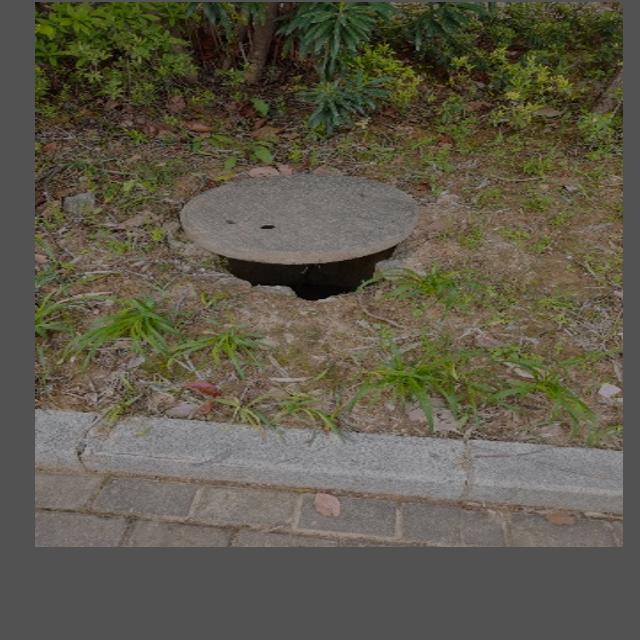broke: (181, 172, 423, 267)
